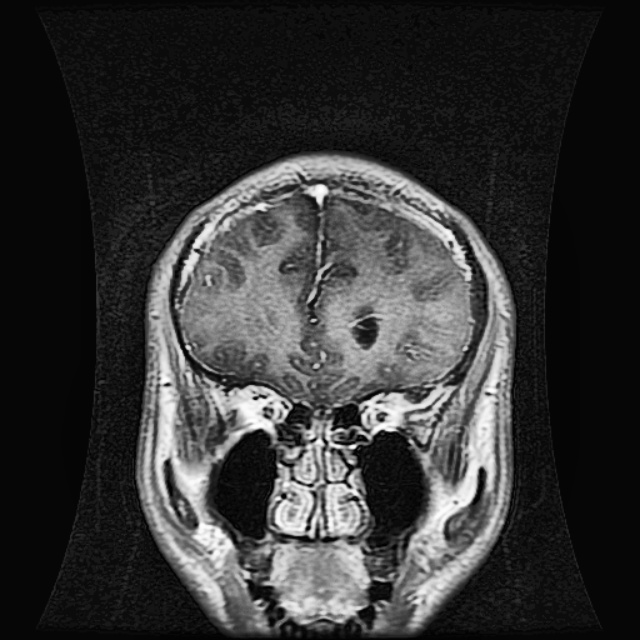Meningioma: (345, 304, 379, 350)
